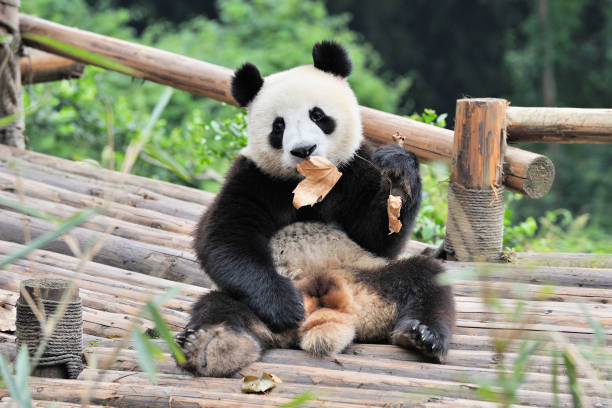panda: (224, 31, 390, 194)
